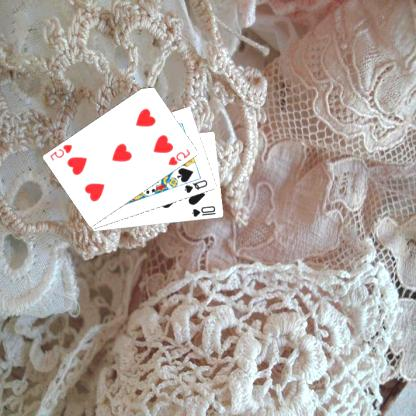10S: (191, 204, 219, 218)
5H: (49, 142, 76, 162), (168, 146, 193, 167)
QS: (183, 177, 211, 195)
